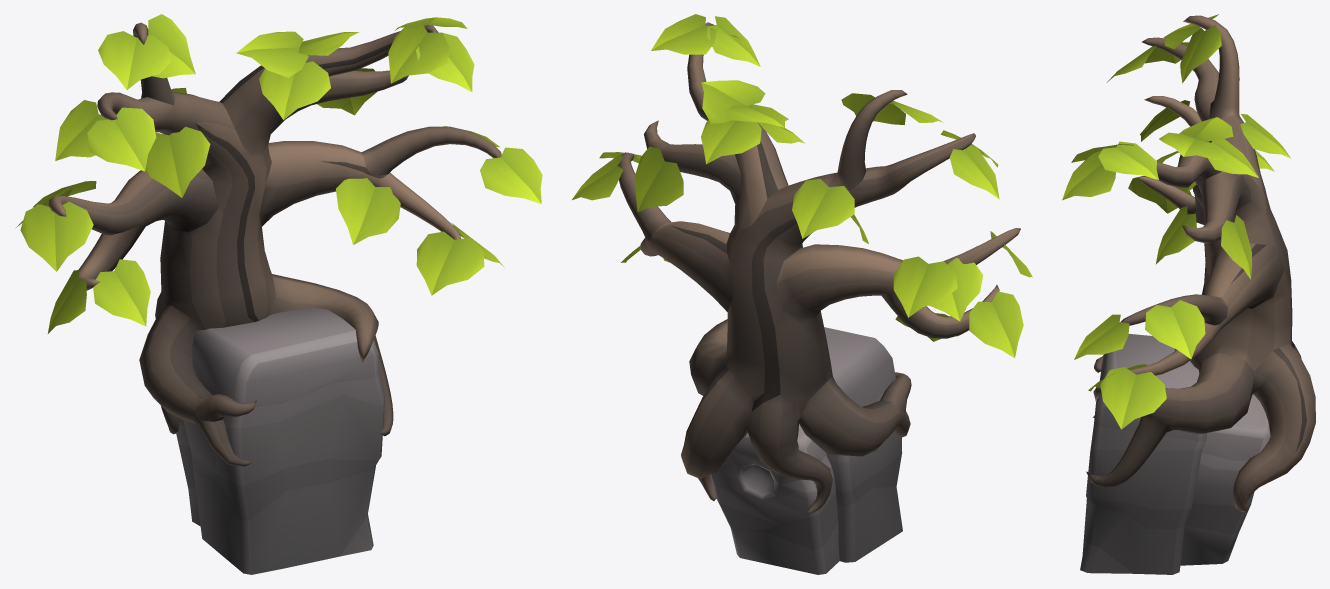
File: elf_throne_tree.fbx
The picture shows the model from 3 angles, left to right: view 1: azimuth 30°, elevation 25°; view 2: azimuth 150°, elevation 25°; view 3: azimuth 270°, elevation 25°; orthographic projection. The views are drawn at different scales.
Parts seen in each view (by area): view 1: elf_throne_tree; view 2: elf_throne_tree; view 3: elf_throne_tree.
Part boxes in pixels (x1,y1,x2,y2): elf_throne_tree: (15, 14, 542, 574); elf_throne_tree: (572, 14, 1032, 574); elf_throne_tree: (1062, 14, 1315, 574).
Bounding box in the file's own units: 881 × 907 × 435.
